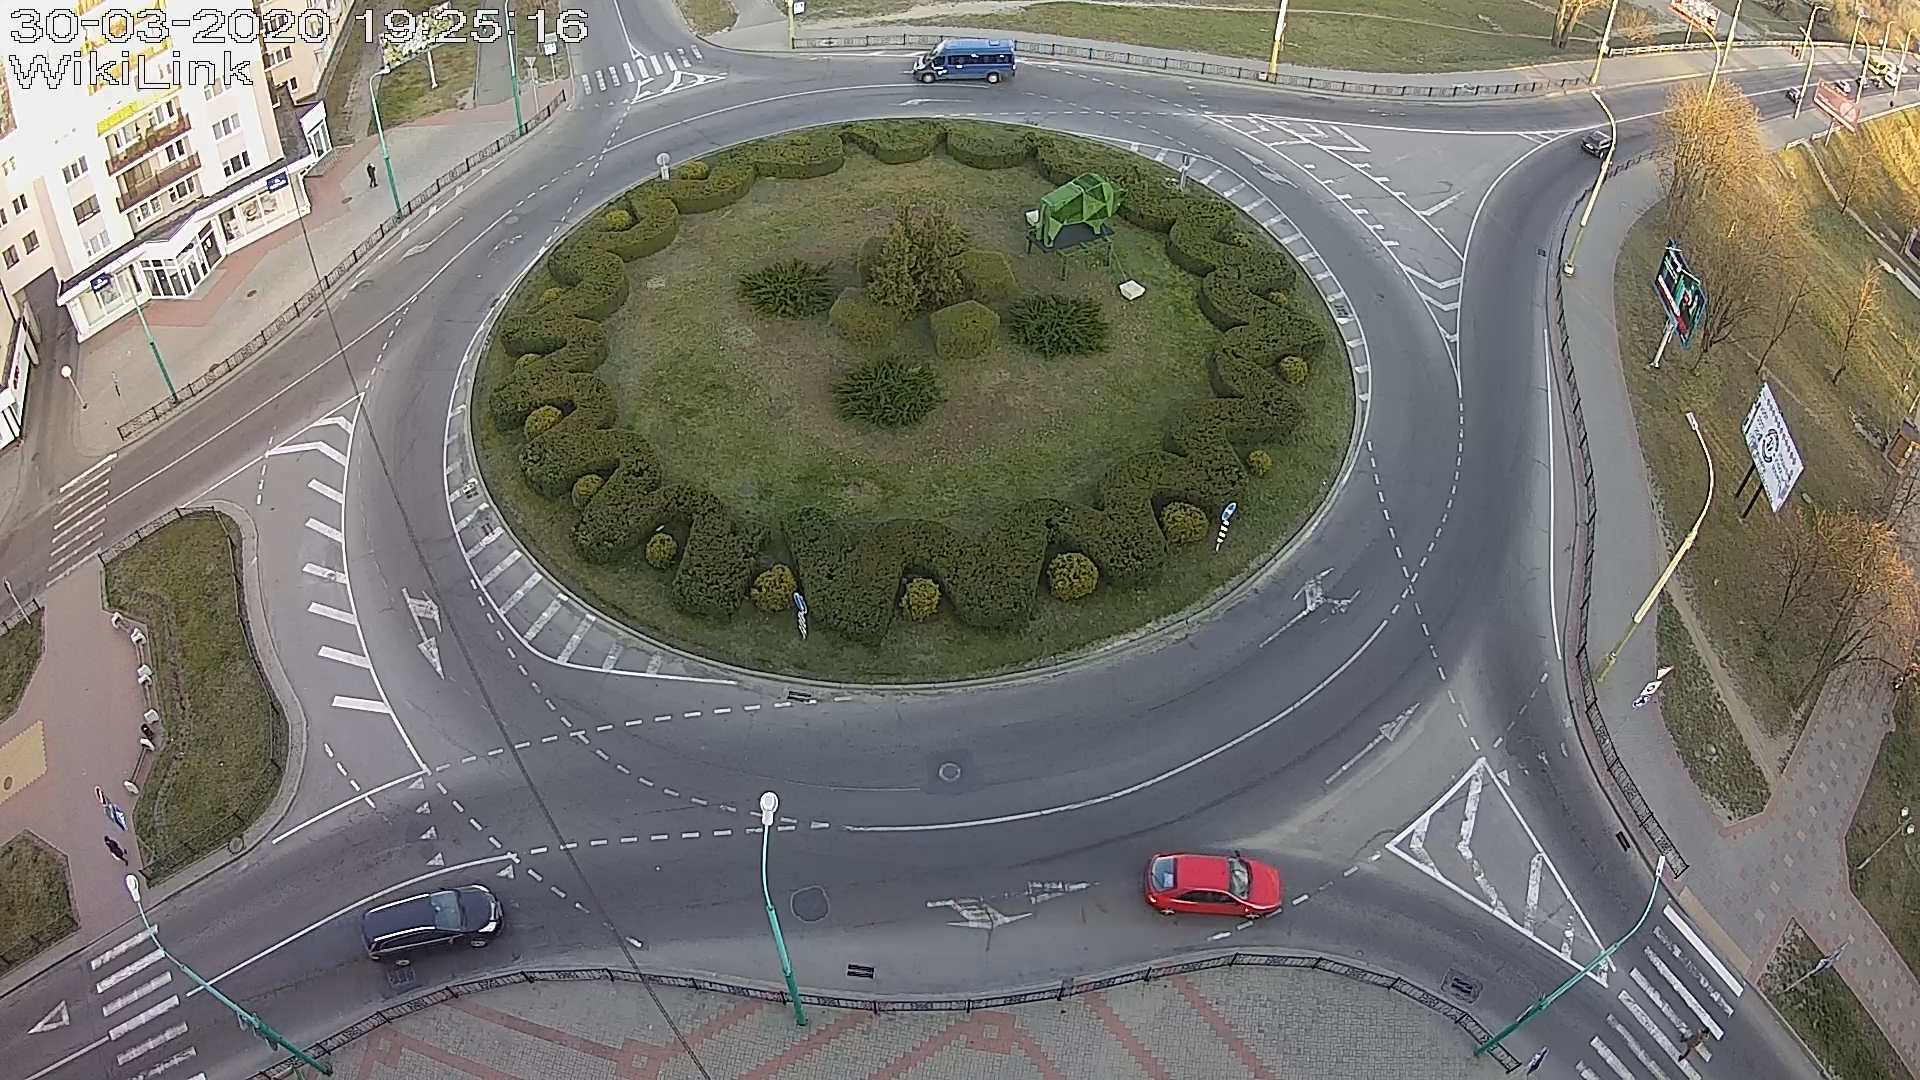car: (359, 885, 505, 967), (1143, 851, 1282, 919), (913, 40, 1017, 84), (1580, 131, 1613, 160)
